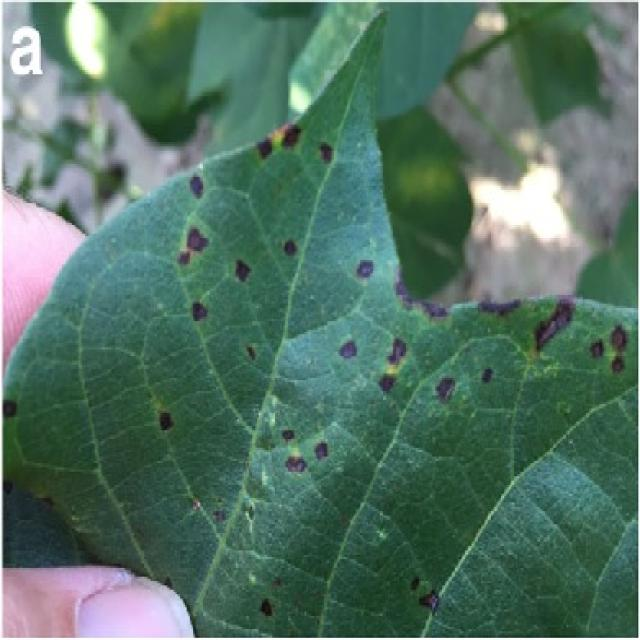Bacterial Blight: (181, 167, 414, 408)
